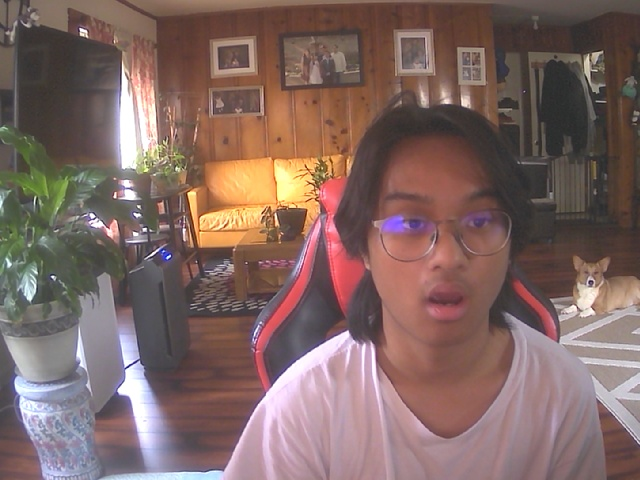fear: (353, 104, 519, 352)
